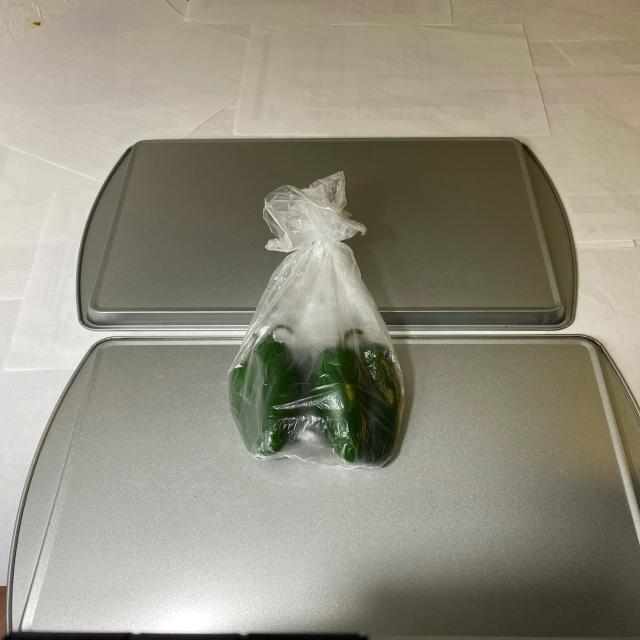chilli: (220, 309, 414, 469)
